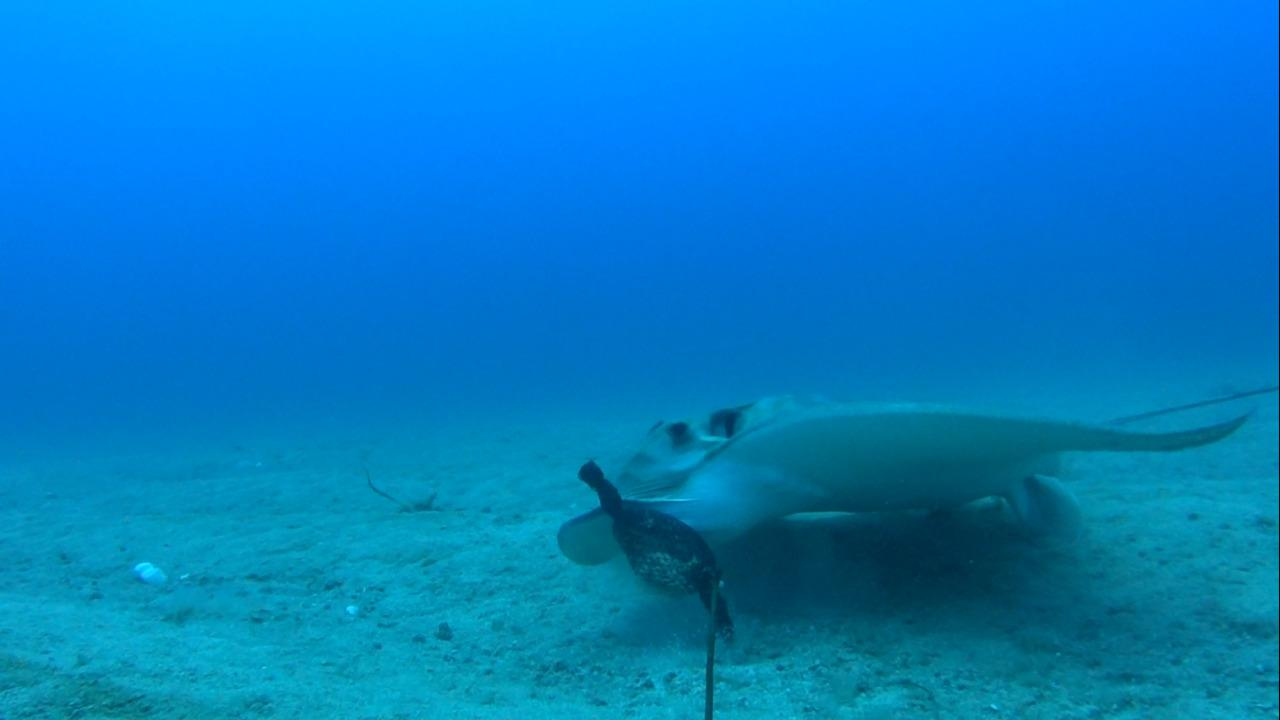myliobatis: (553, 365, 1279, 590)
